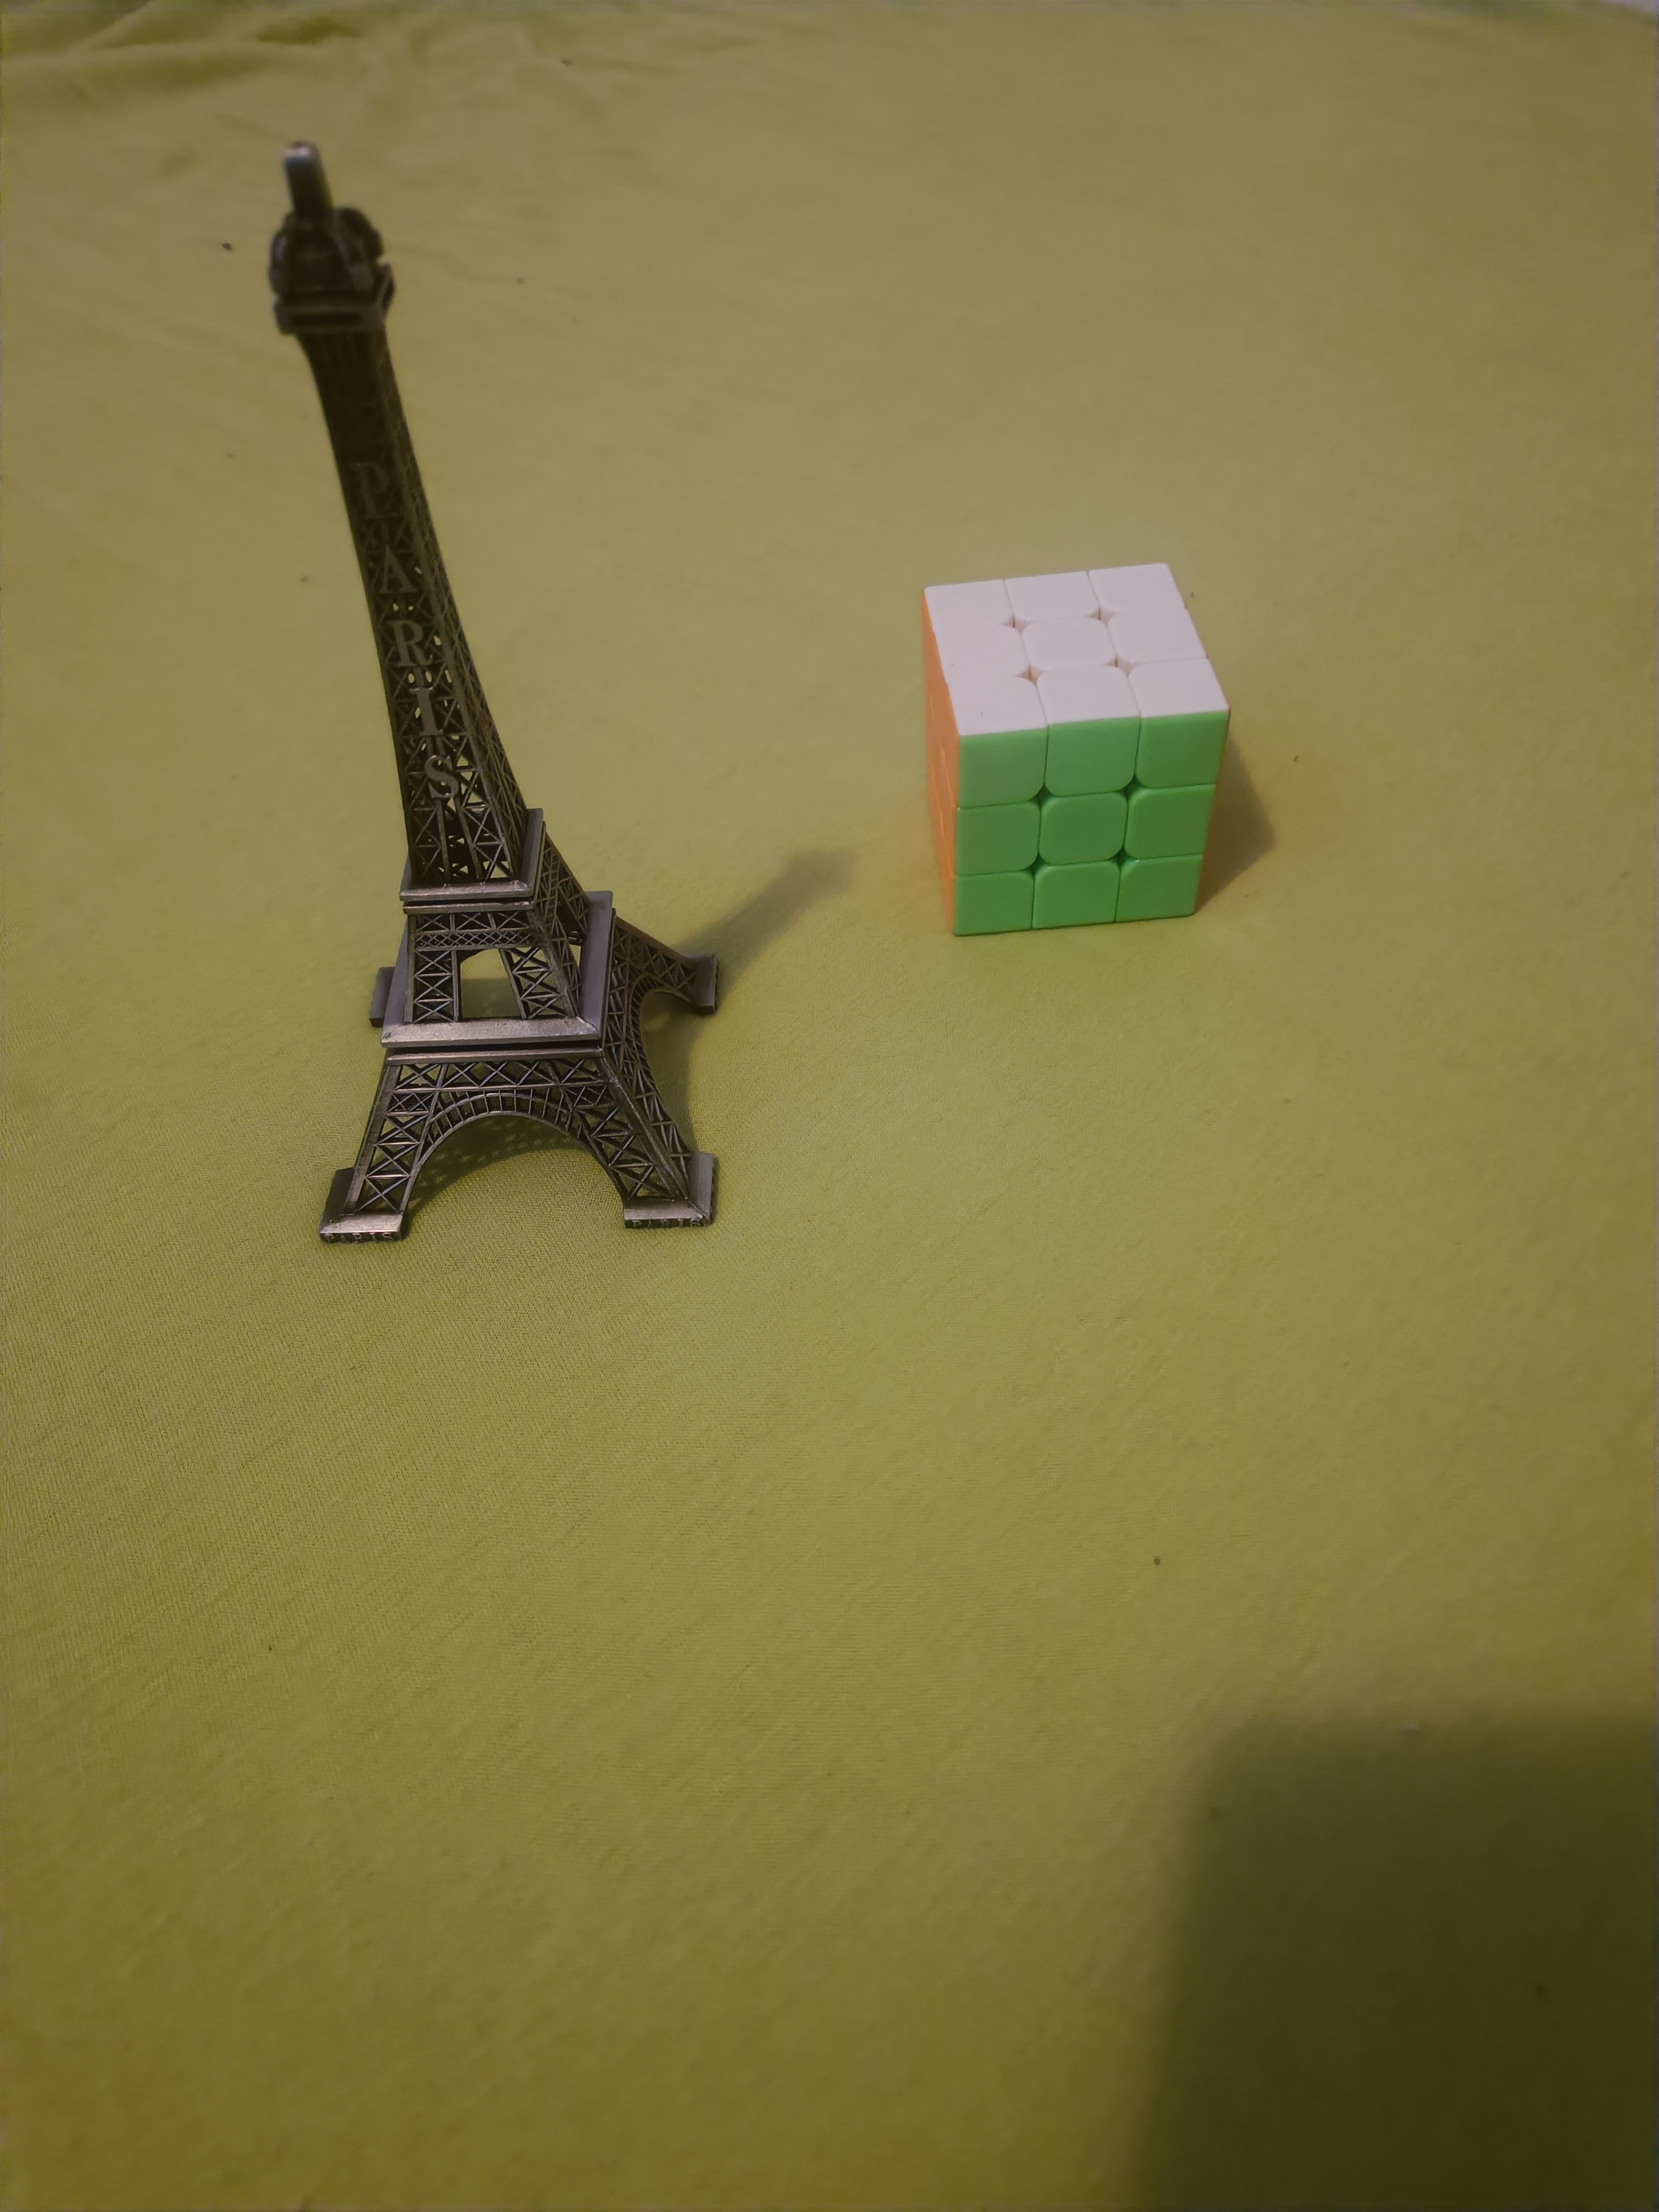Eiffel Tower: (234, 125, 734, 1249)
Rubiks Cube: (906, 547, 1234, 953)
